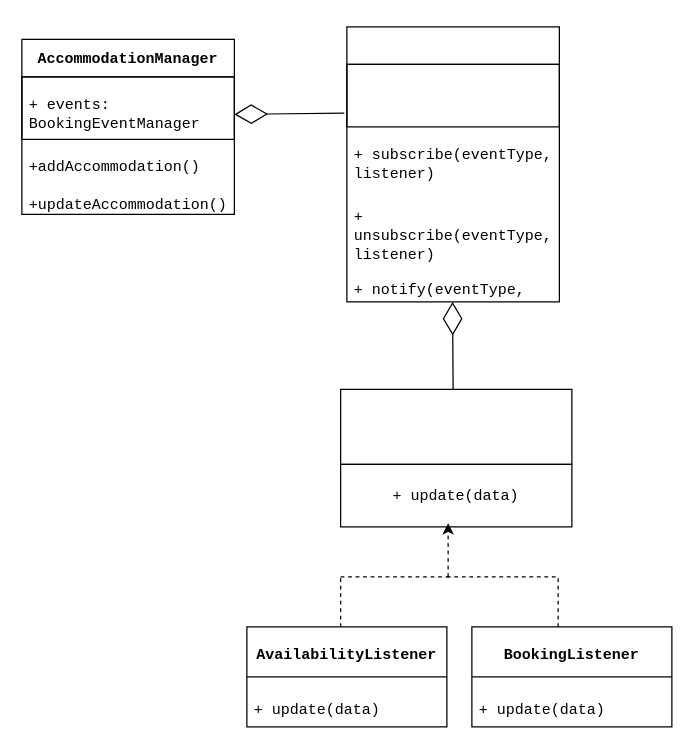
The diagram is 694 pixels wide and 753 high, and some of its shapes have lost their labels. The box of each missing label's shape, as (x1, y1, x2, y2) in pixels:
+ listeners: (346, 63, 559, 127)
BookingEventManager: (346, 26, 559, 302)
«interface» AccommodationEventListener: (339, 388, 572, 464)
